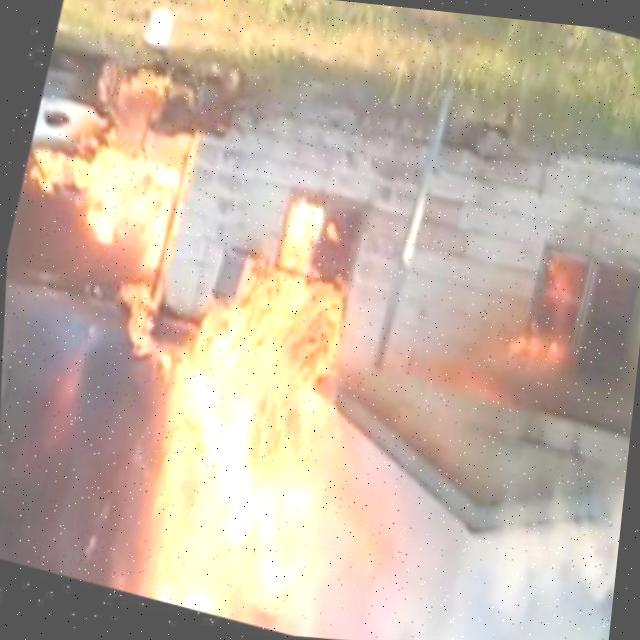fire: (104, 236, 401, 640), (5, 121, 188, 270), (489, 247, 599, 397), (98, 260, 178, 371), (260, 172, 328, 276)
